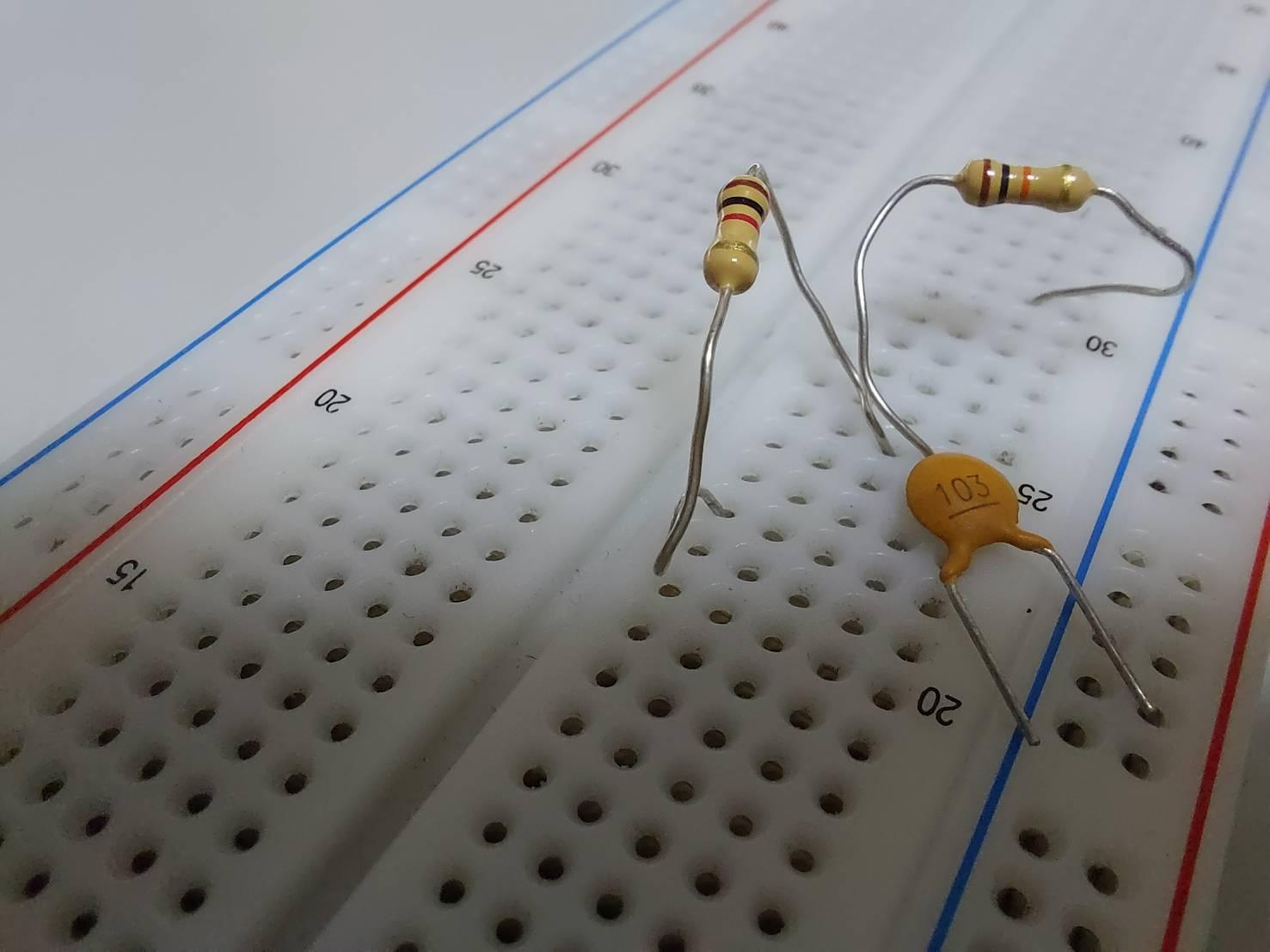resistor: (703, 164, 772, 299), (950, 156, 1100, 213)
